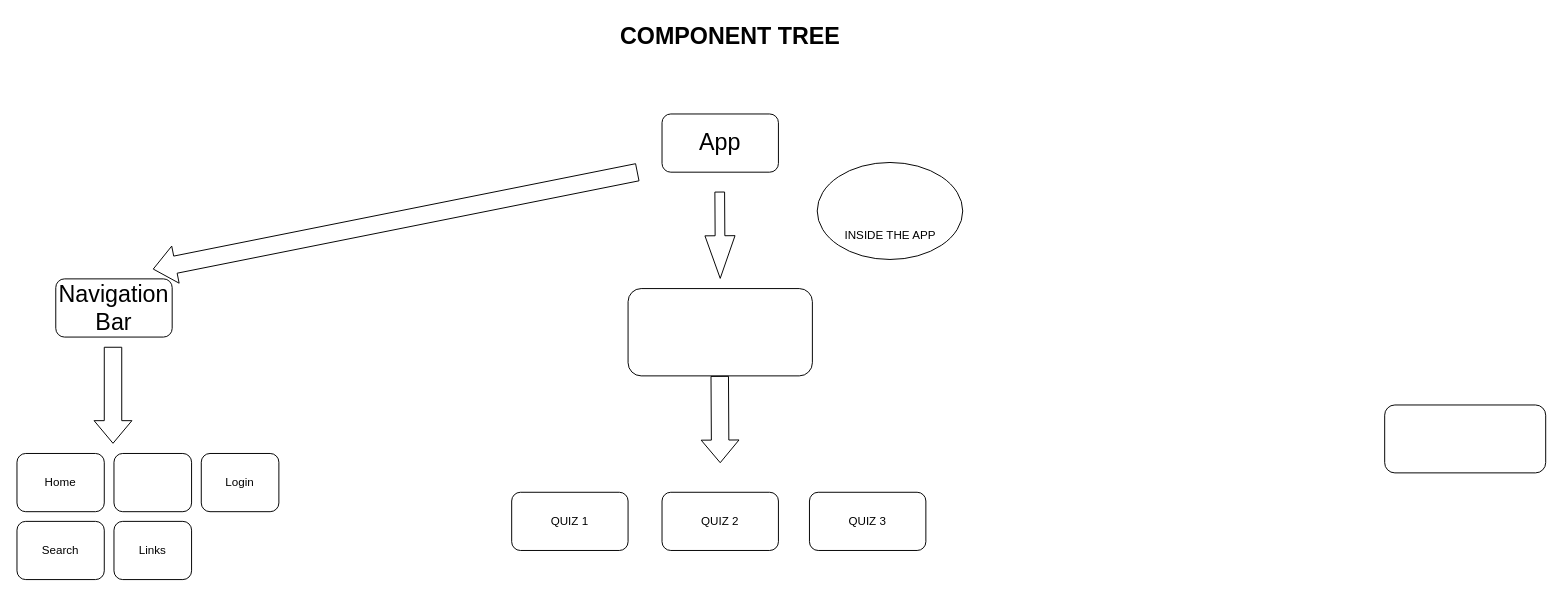
Some shapes in this 1563 by 597 pixel diagram are drawn without their labels. Each missing label, with the box of its shape:
Button: (1384, 404, 1546, 473)
Quiz: (113, 453, 192, 512)
Side Bar Component: (627, 288, 812, 376)
Static Quiz Image: (816, 162, 963, 259)
